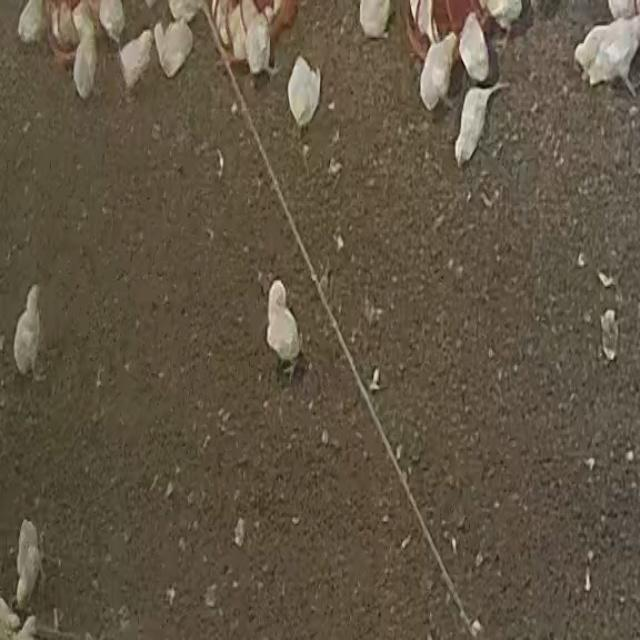chicken: (566, 14, 640, 93), (452, 82, 510, 168), (260, 272, 306, 380), (13, 282, 50, 385), (416, 32, 456, 112), (14, 520, 48, 609), (235, 11, 275, 84), (153, 19, 200, 78), (456, 11, 494, 79), (287, 57, 324, 125), (477, 0, 521, 46), (118, 28, 152, 87), (13, 0, 53, 48), (76, 32, 102, 99), (357, 0, 396, 39), (54, 0, 74, 50), (101, 0, 126, 38), (75, 0, 97, 37)
